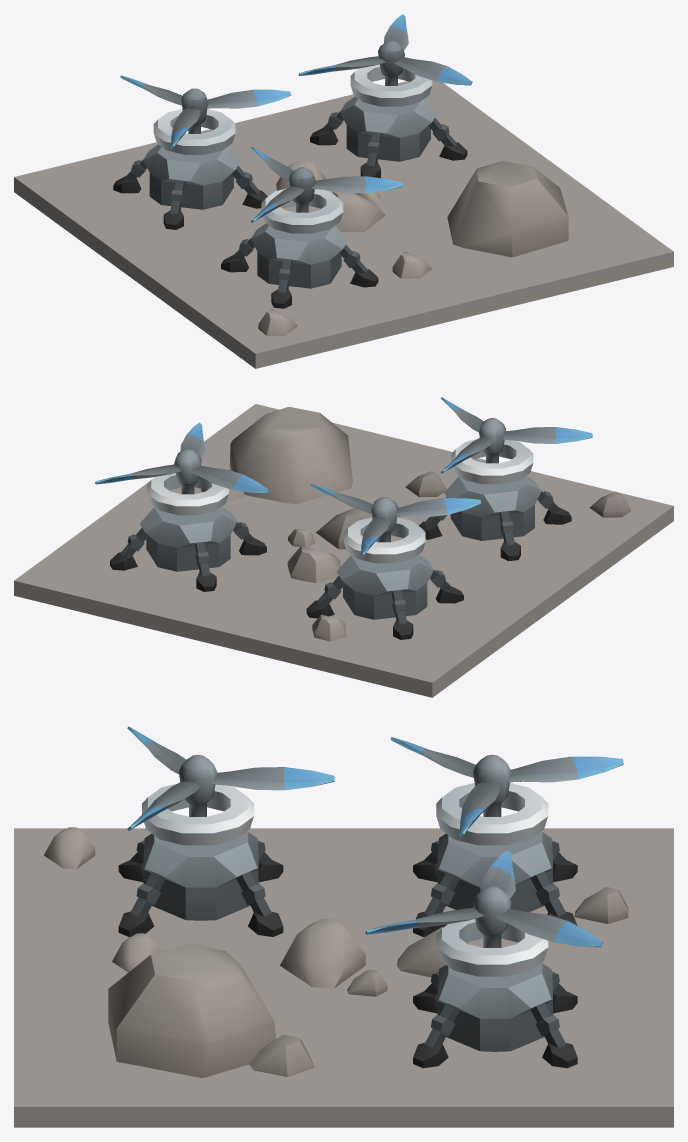
The model's file is windpark.glb.
3 views of the same model, one above another, from view 1: azimuth 30°, elevation 25°; view 2: azimuth 150°, elevation 25°; view 3: azimuth 270°, elevation 25° (orthographic). The views are drawn at different scales.
Visible parts, largest first — view 1: Windpark; view 2: Windpark; view 3: Windpark.
Part boxes in pixels (box(x1,y1,x2,y2)): Windpark: box(14, 14, 673, 368); Windpark: box(14, 397, 673, 697); Windpark: box(14, 726, 673, 1127).
Size of the model in its own units: 0.29 by 0.0819 by 0.29.
Materials: 1 (1 with a texture image).
